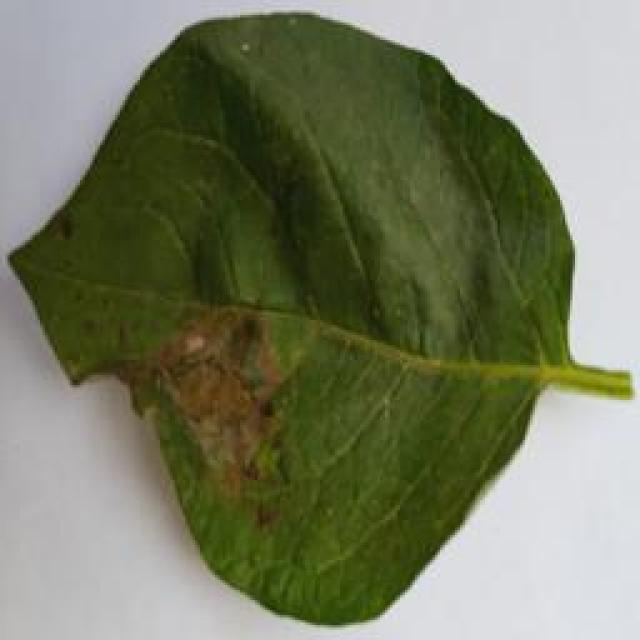Potato_Late_Blight: (0, 6, 624, 632)
